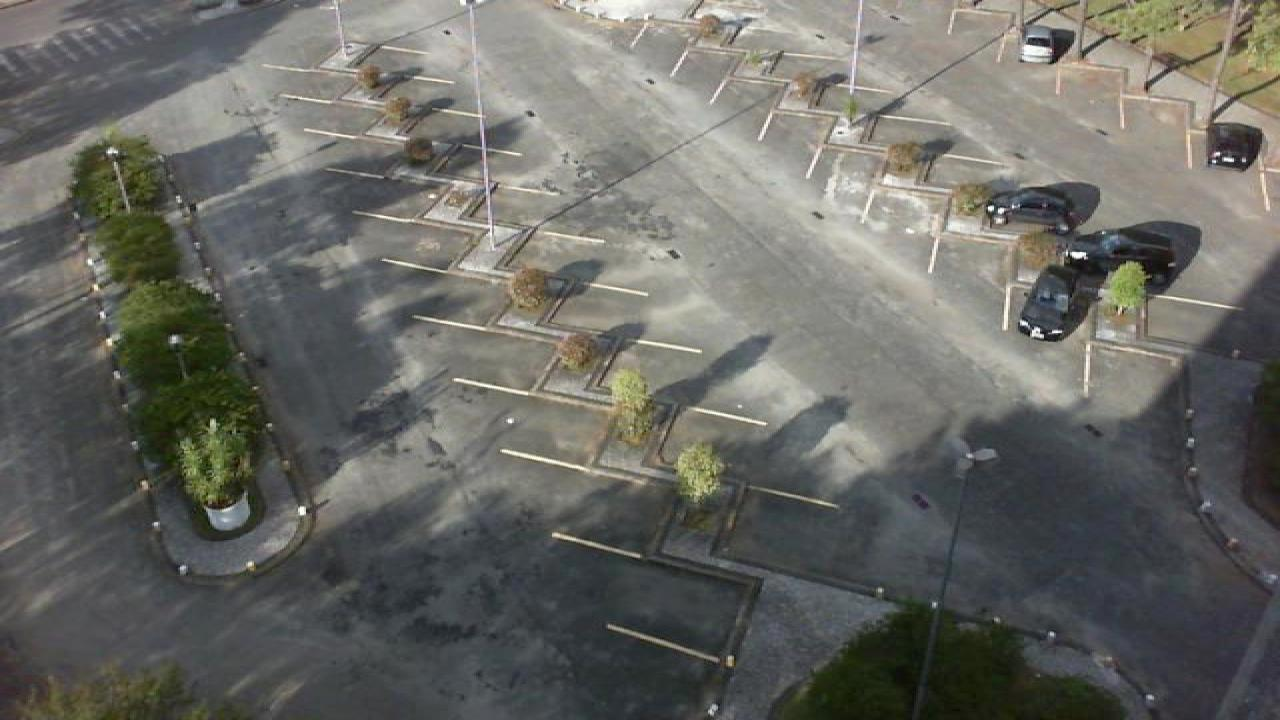Car: (1016, 262, 1102, 342), (1060, 229, 1176, 274), (980, 186, 1074, 227), (1206, 120, 1264, 172), (1016, 25, 1068, 64)
